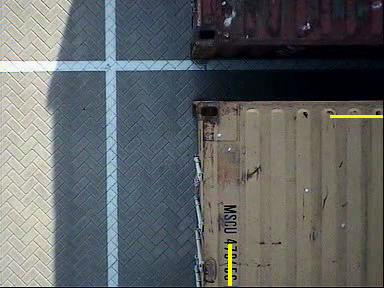groundmarker_2: (120, 66, 194, 108)
